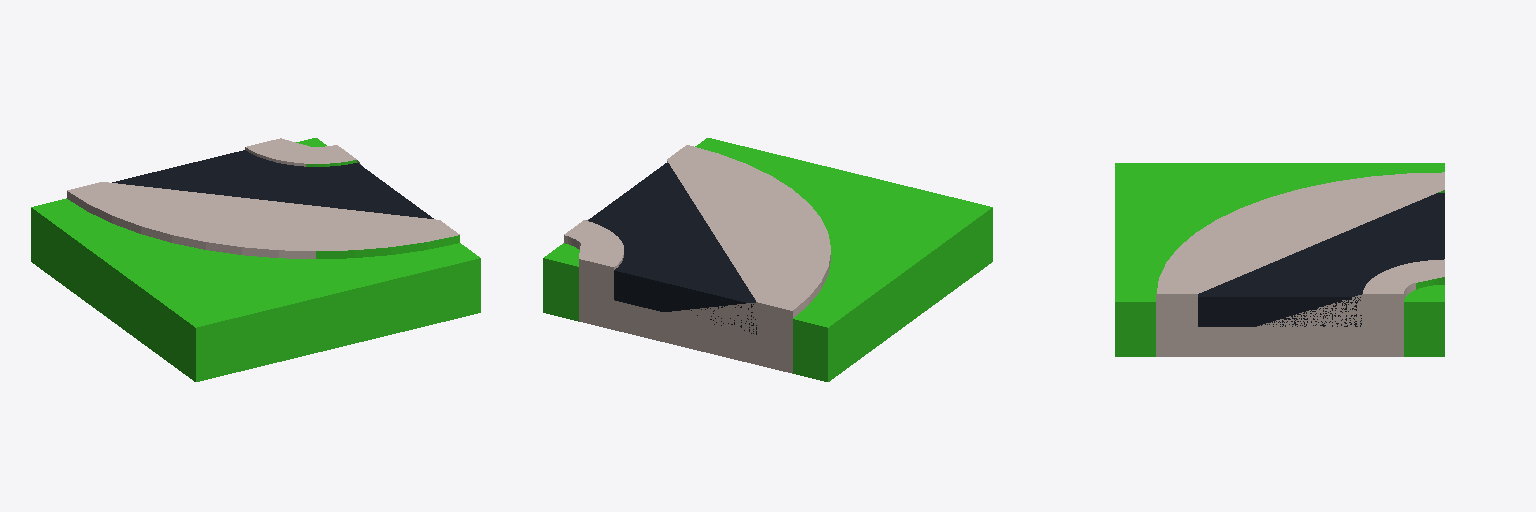
File: corner3.obj
The picture shows the model from 3 angles: view 1: azimuth 30°, elevation 25°; view 2: azimuth 150°, elevation 25°; view 3: azimuth 270°, elevation 25°; orthographic projection.
Visible parts, largest first — view 1: Corner; view 2: Corner; view 3: Corner.
Part boxes in pixels (left/top/right/bottom): Corner: left=31, top=138, right=480, bottom=381; Corner: left=543, top=138, right=992, bottom=381; Corner: left=1115, top=163, right=1444, bottom=356.
Size of the model in its own units: 3 by 0.63 by 3.